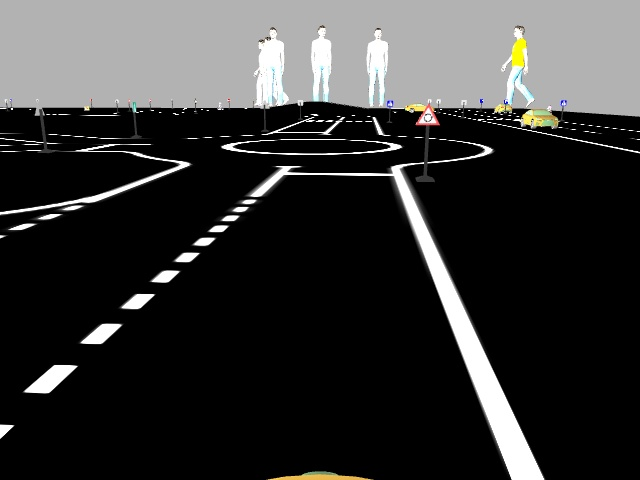Roundabout: (413, 102, 441, 126)
